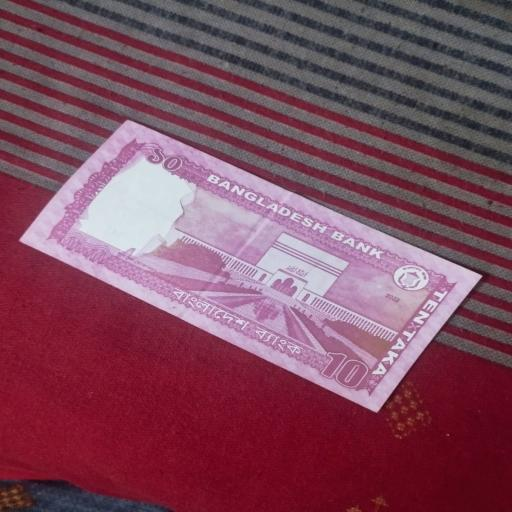10taka: (17, 115, 483, 416)
